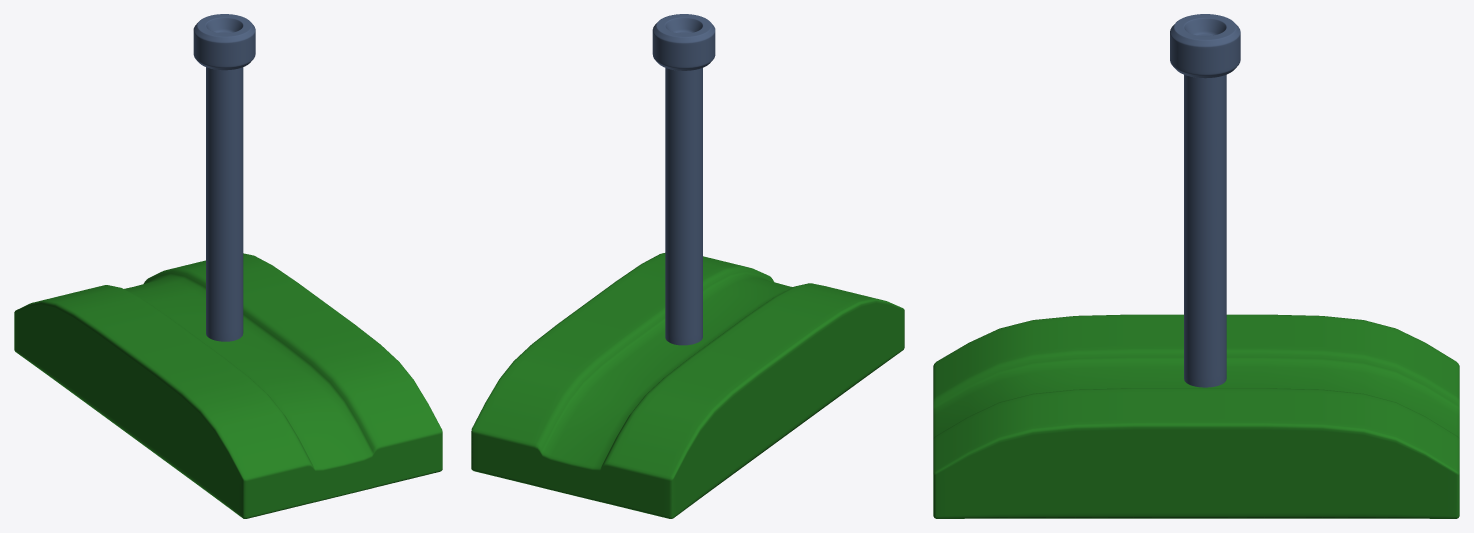
The model's file is Lever.fbx.
3 renders of one model, left to right at view 1: azimuth 30°, elevation 25°; view 2: azimuth 150°, elevation 25°; view 3: azimuth 270°, elevation 25°, orthographic. The views are drawn at different scales.
Parts seen in each view (by area): view 1: Lever (×2); view 2: Lever (×2); view 3: Lever (×2).
Part boxes in pixels (x1,y1,x2,y2): Lever (×2): [14, 14, 442, 518]; Lever (×2): [471, 14, 904, 518]; Lever (×2): [933, 14, 1459, 518].
Size of the model in its own units: 2.5 by 4.59 by 5.
